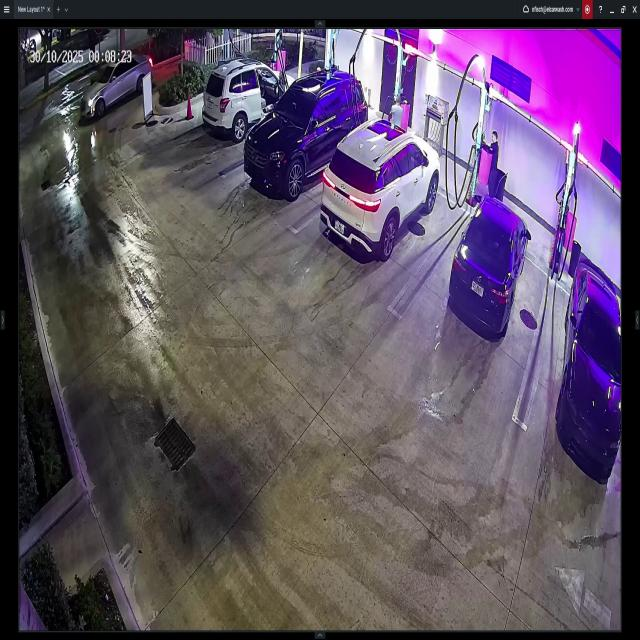Car: (319, 119, 441, 264), (553, 256, 622, 482), (244, 71, 368, 195), (452, 198, 528, 339), (202, 58, 296, 136), (79, 52, 153, 126)
